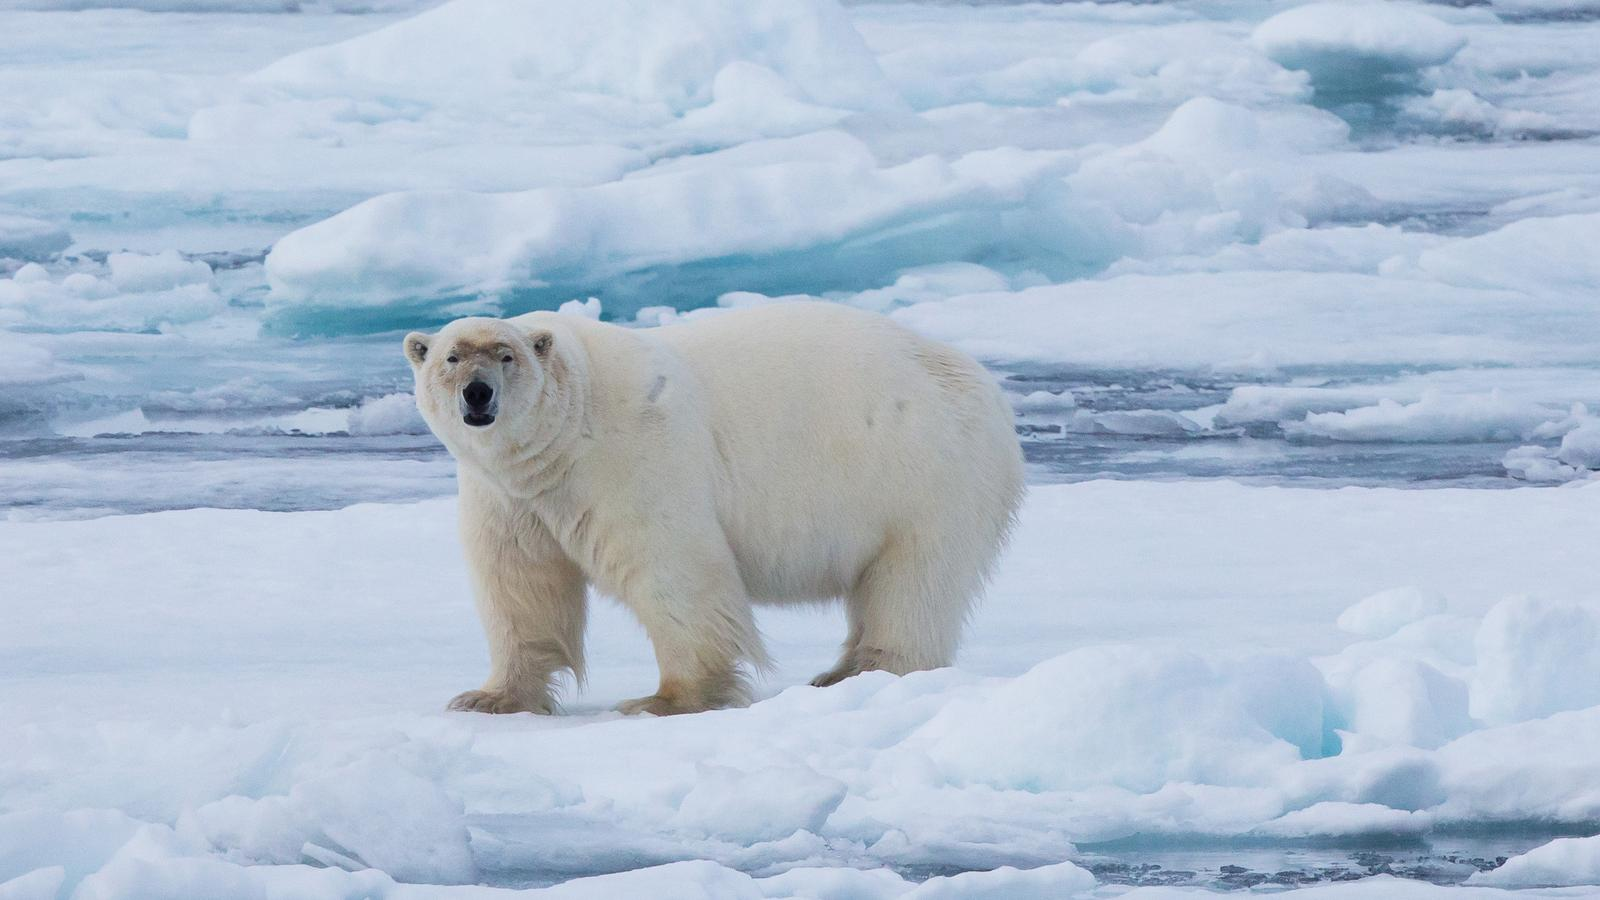Polar Bear: (370, 244, 1044, 693)
